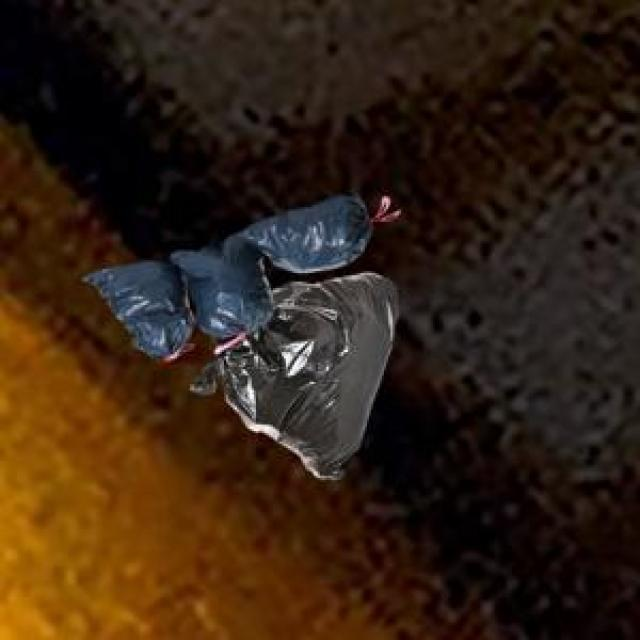waste: (86, 196, 398, 478)
